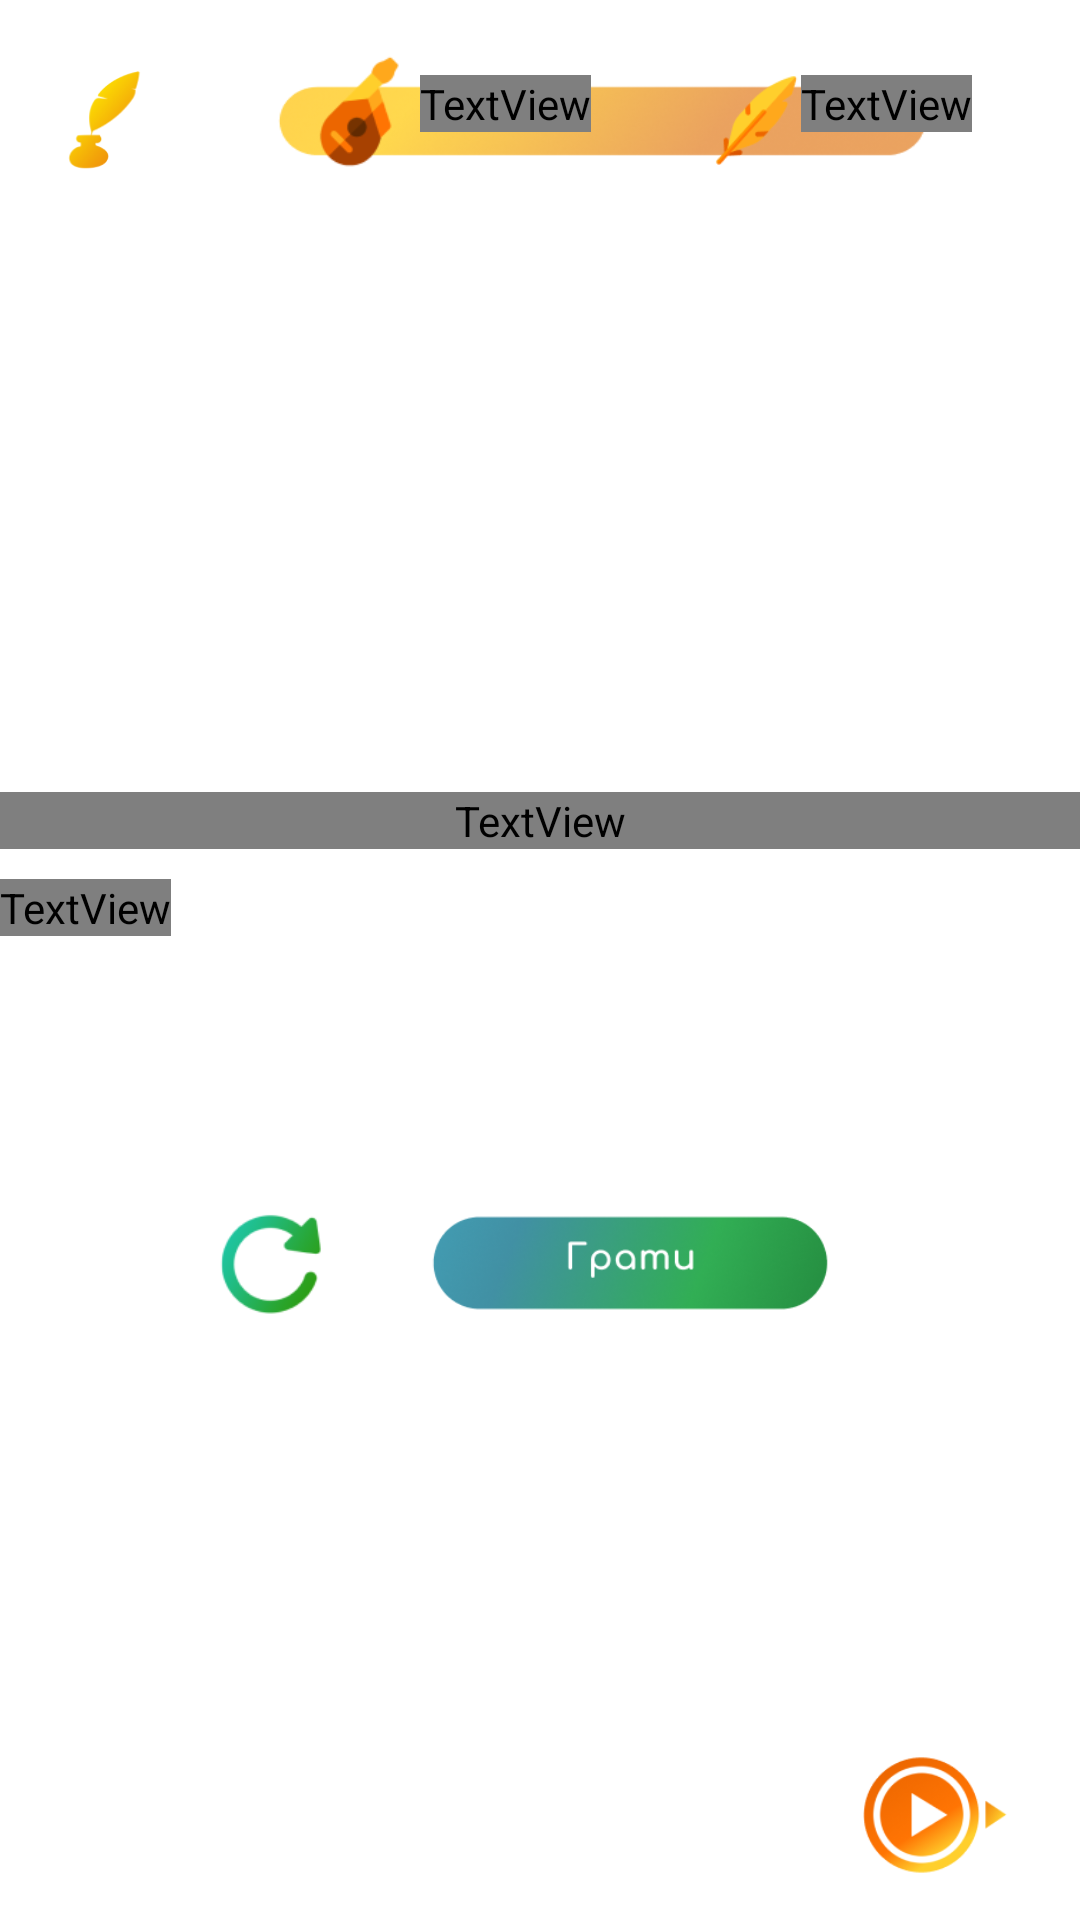

Icon bounding boxes for this 1080*1920 phone screenshot, format (x1, y1, x2, y2):
return: (221, 1215, 321, 1314)
view reclama: (863, 1757, 1006, 1873)
